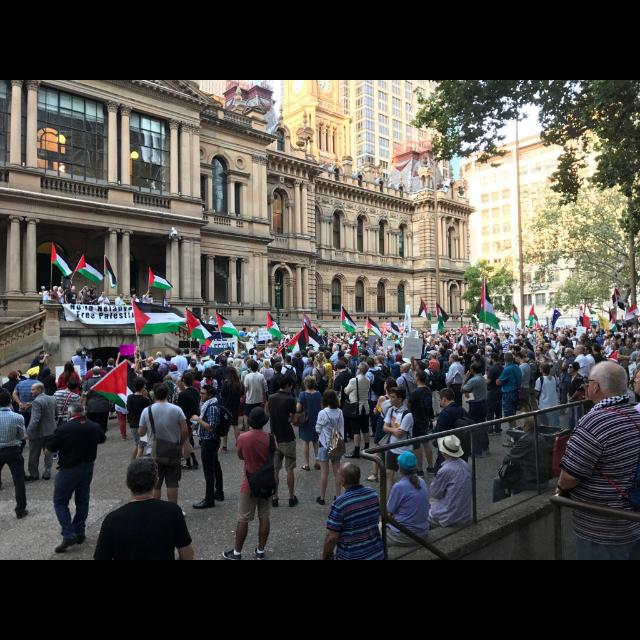head: (587, 361, 629, 401), (125, 459, 161, 497), (337, 462, 361, 488), (439, 435, 461, 459), (438, 388, 456, 409), (399, 454, 417, 474), (68, 403, 86, 421), (521, 412, 539, 430), (200, 385, 217, 403), (250, 409, 266, 428), (390, 389, 406, 406), (30, 383, 46, 399), (280, 376, 296, 392), (0, 392, 14, 408), (155, 385, 169, 401), (415, 370, 429, 386), (134, 379, 148, 393), (303, 376, 317, 390), (67, 378, 79, 392), (226, 367, 238, 381), (324, 391, 336, 405), (357, 362, 369, 376), (384, 378, 396, 392), (182, 374, 194, 386), (471, 362, 483, 374), (567, 362, 579, 374), (337, 362, 348, 374), (539, 362, 551, 373), (314, 354, 326, 364), (40, 368, 51, 378), (448, 354, 459, 364), (488, 354, 499, 364), (504, 352, 514, 363), (8, 372, 20, 381), (29, 368, 39, 378), (248, 362, 258, 372), (366, 358, 376, 368), (428, 350, 438, 360), (94, 359, 105, 368), (92, 366, 101, 376), (204, 369, 213, 379), (66, 363, 74, 372), (148, 358, 156, 367), (76, 349, 84, 357), (107, 359, 115, 367), (40, 350, 46, 358), (102, 292, 106, 298), (120, 294, 124, 300), (133, 294, 137, 300), (210, 316, 214, 322), (146, 292, 150, 296), (201, 316, 205, 320)
person: (43, 401, 109, 555), (492, 412, 552, 532), (137, 382, 189, 520), (413, 432, 479, 534), (366, 452, 434, 550), (188, 384, 234, 511), (263, 372, 301, 510), (363, 376, 409, 486), (431, 388, 477, 498), (380, 386, 416, 520), (314, 389, 348, 508), (0, 387, 30, 521), (23, 382, 59, 482), (407, 370, 438, 478), (292, 374, 326, 472), (496, 352, 528, 450), (461, 360, 492, 460), (11, 366, 45, 454), (343, 362, 372, 461), (175, 372, 203, 472), (52, 378, 82, 470), (126, 376, 154, 474), (82, 365, 114, 445), (218, 366, 246, 456), (362, 356, 390, 440), (1, 370, 30, 450), (532, 363, 560, 445), (243, 360, 270, 444), (332, 359, 356, 445), (562, 360, 586, 440), (442, 353, 468, 425), (484, 353, 504, 437), (134, 356, 164, 410), (58, 361, 82, 422), (85, 358, 107, 422), (424, 349, 444, 418), (313, 352, 331, 424), (200, 368, 218, 436), (70, 347, 92, 401), (100, 356, 118, 420), (39, 367, 57, 421), (30, 350, 50, 384), (98, 290, 110, 318), (142, 290, 154, 318), (115, 294, 127, 320), (131, 294, 141, 318), (208, 316, 218, 338), (199, 314, 207, 336)
